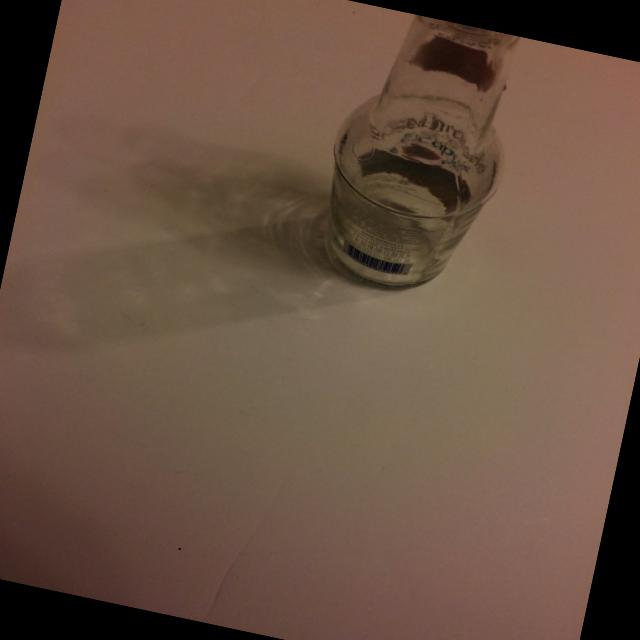Glass: (300, 1, 534, 314)
